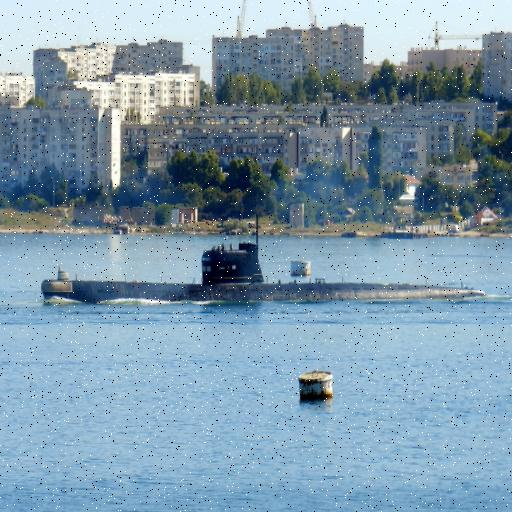submarine: (41, 249, 481, 303)
